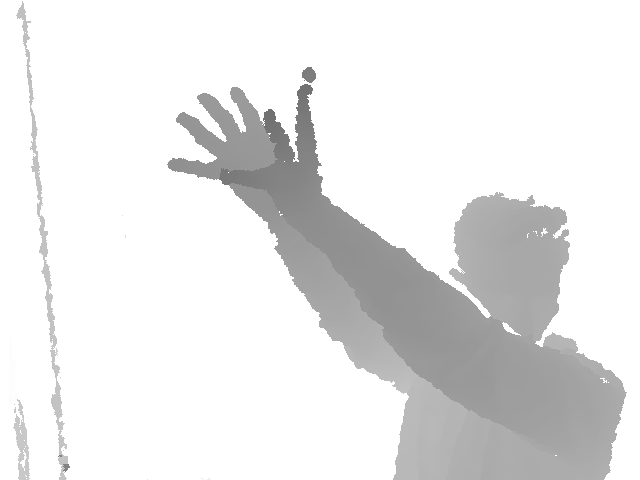hand: (168, 87, 302, 226), (219, 66, 317, 218)
head: (449, 192, 570, 346)
person: (168, 65, 628, 480)
